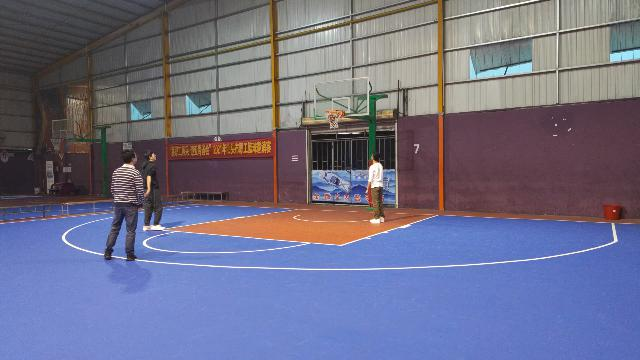basket: (324, 110, 342, 128), (50, 137, 62, 149)
goal: (327, 114, 335, 122)
